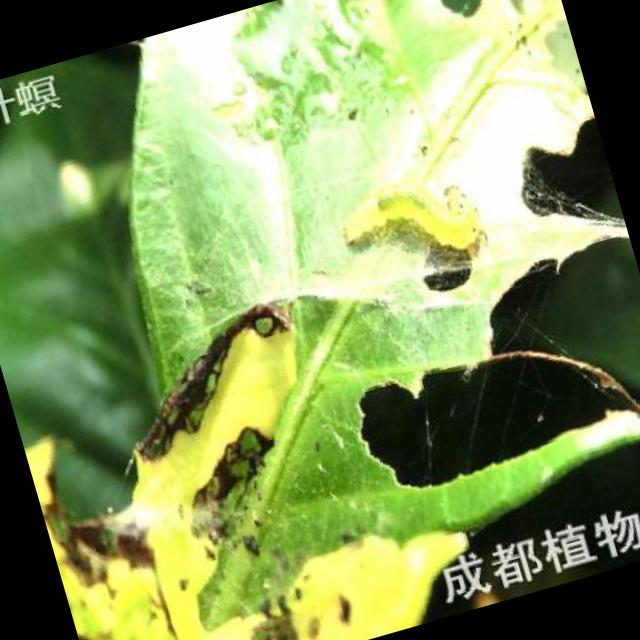leaf-folder: (322, 142, 496, 293)
